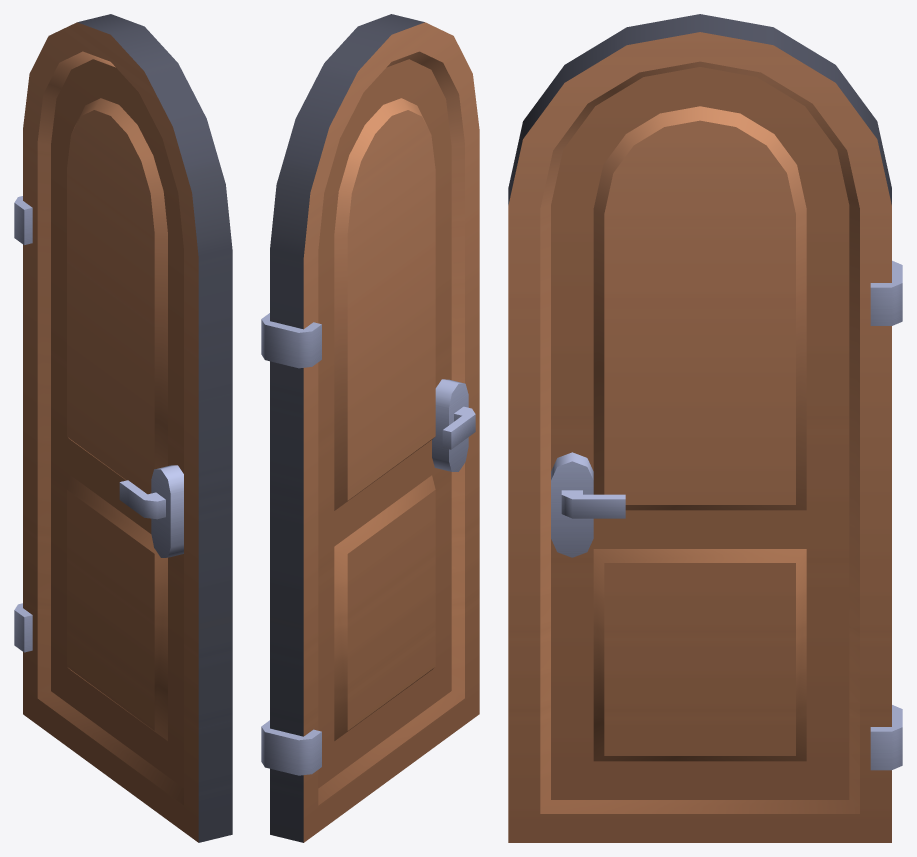
The model's file is part_door_rotate_round_c.fbx.
3 renders of one model, left to right at view 1: azimuth 30°, elevation 25°; view 2: azimuth 150°, elevation 25°; view 3: azimuth 270°, elevation 25°, orthographic. The views are drawn at different scales.
Parts seen in each view (by area): view 1: door, handle; view 2: door, handle; view 3: door, handle.
Boxes of the visible parts, x1=… form: door: x1=14, y1=14, x2=232, y2=842; handle: x1=119, y1=480, x2=165, y2=519; door: x1=261, y1=14, x2=479, y2=842; handle: x1=442, y1=406, x2=475, y2=449; door: x1=508, y1=14, x2=902, y2=842; handle: x1=561, y1=490, x2=625, y2=518.
Size of the model in its own units: 25 by 210 by 92.5.
1 material, 1 textured.
